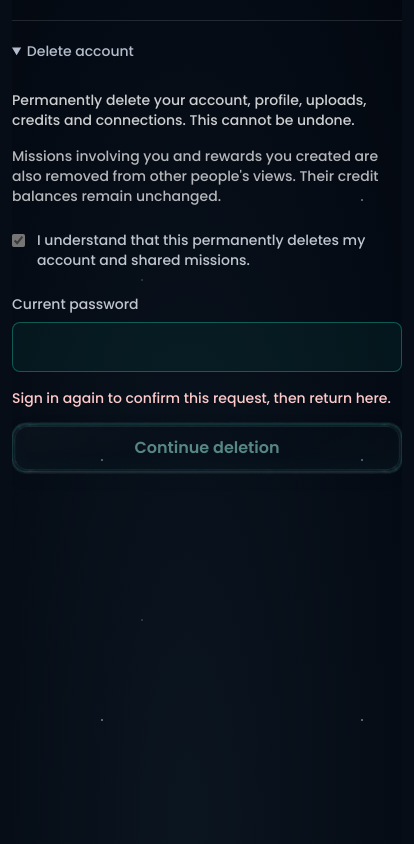
it: account deletion confirmation › requires successful reauthentication after the server rejects an old session
Earlier steps of the test are not shown.
In the password field labelled "Current password": (207, 347) [12,322,402,372], type "incorrect"
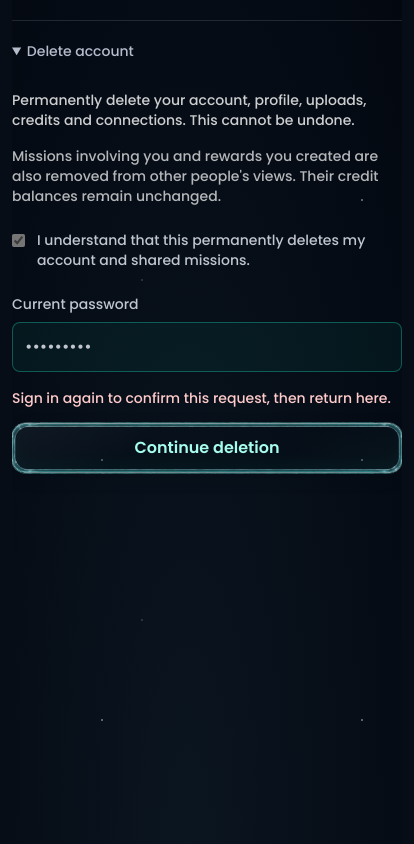
Submit the form, box [12,74,402,472]
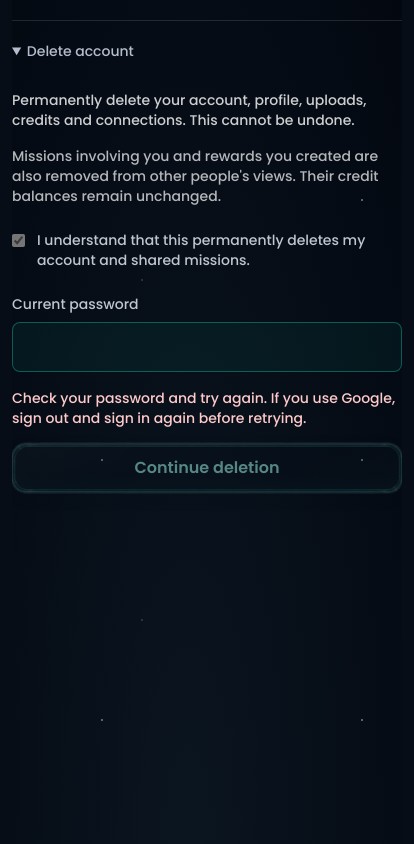
expect the message shows "Check your password and try again. If you use Google, sign out and sign in again before retrying.": met, box [12,388,395,428]
expect the password field labelled "Current password" is empty: met, box [12,322,402,372]
